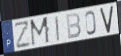0: (85, 10, 97, 36)
B: (66, 12, 82, 41)
I: (54, 15, 60, 43)
M: (29, 16, 51, 48)
V: (99, 5, 114, 35)
Z: (14, 19, 32, 50)
